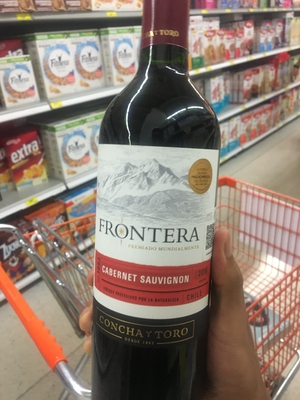frontera cabernet sauvignon: (92, 7, 229, 400)
